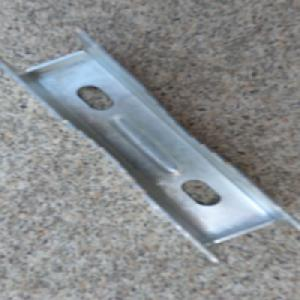ClampPart: (0, 27, 300, 265)
